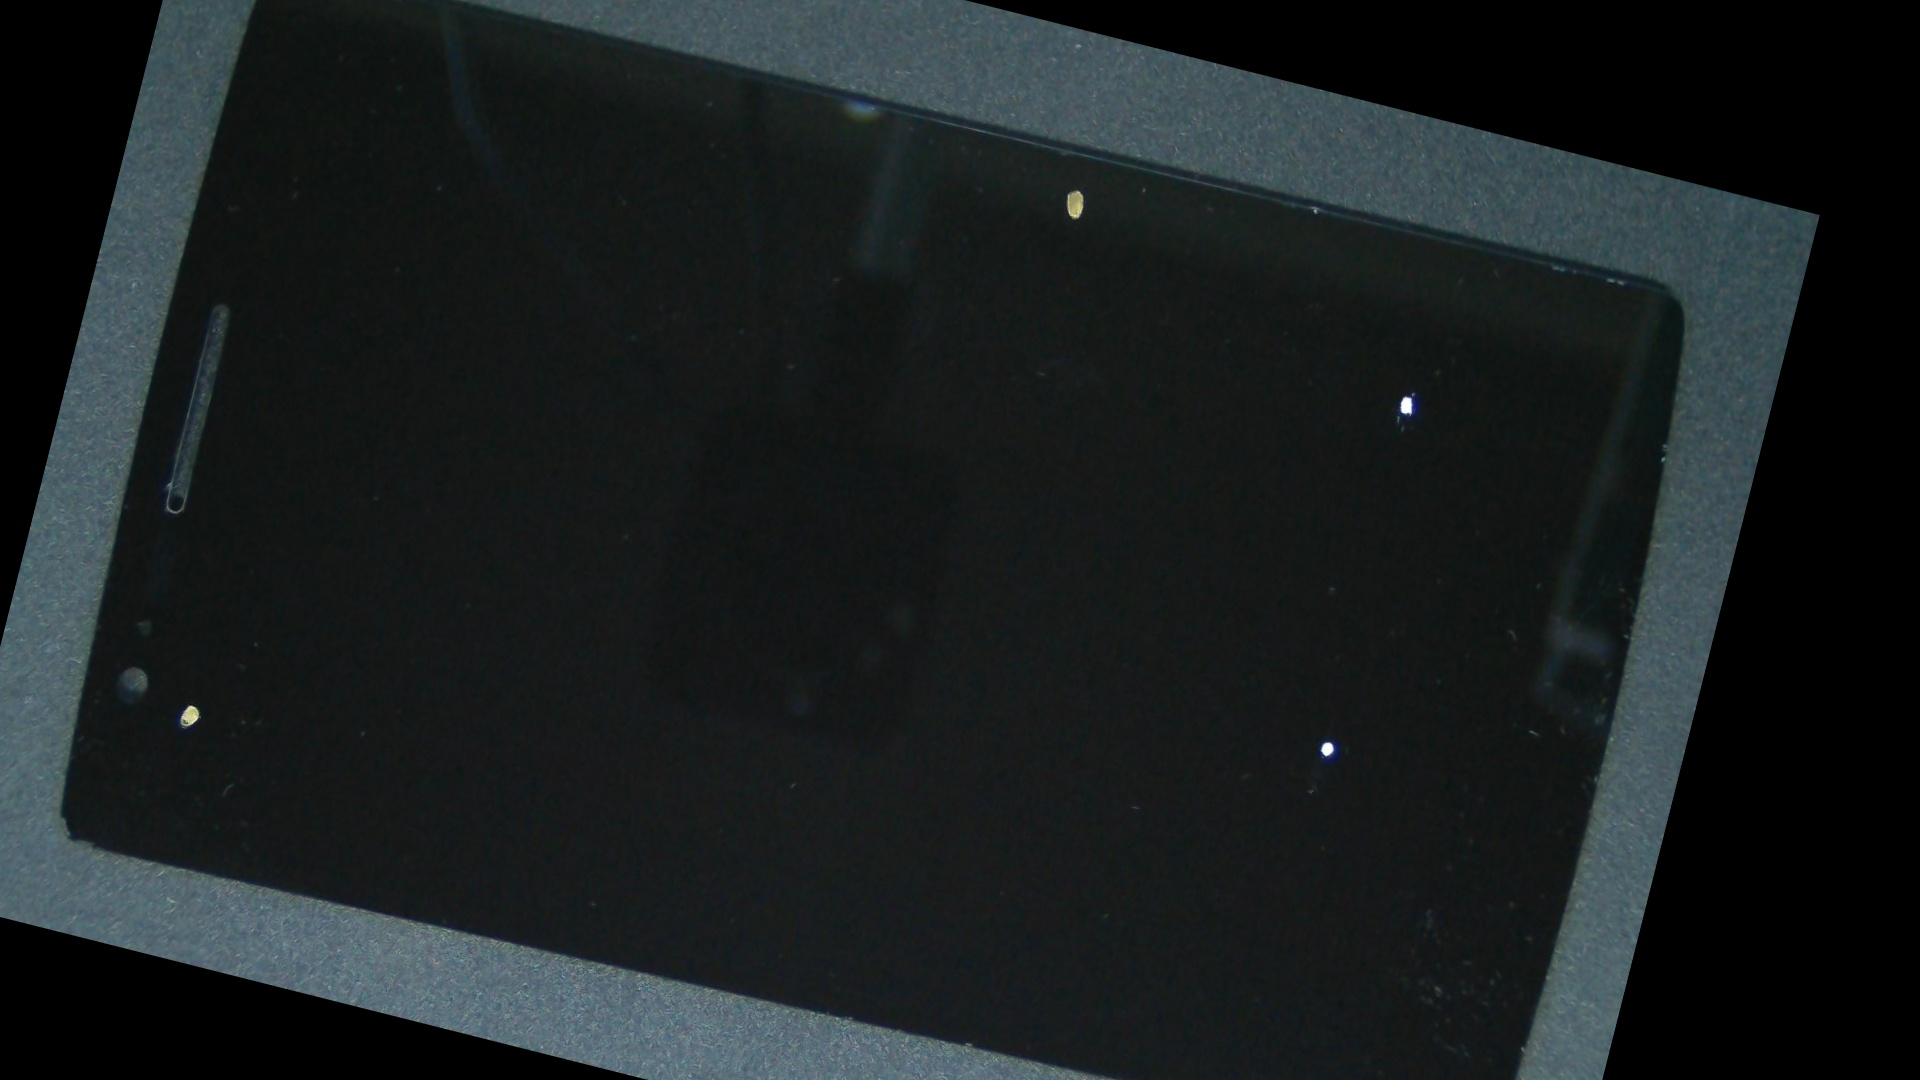oil: (617, 276, 1743, 1080), (745, 103, 1787, 616), (607, 0, 1548, 376), (36, 257, 402, 976)
